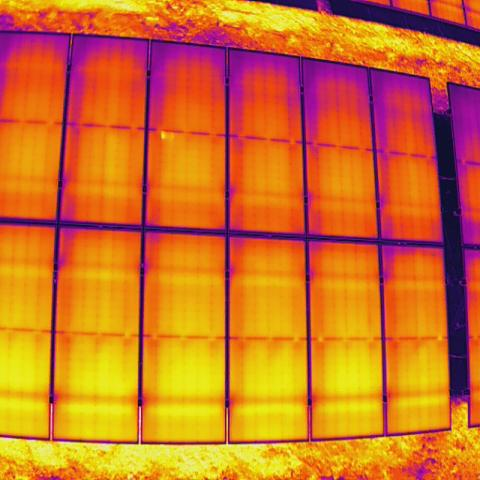fault: (155, 128, 178, 144)
